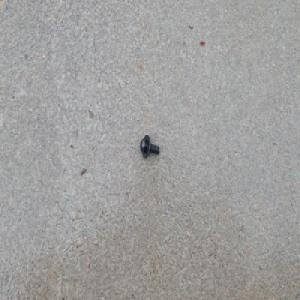BoltWasher: (139, 134, 159, 159)
